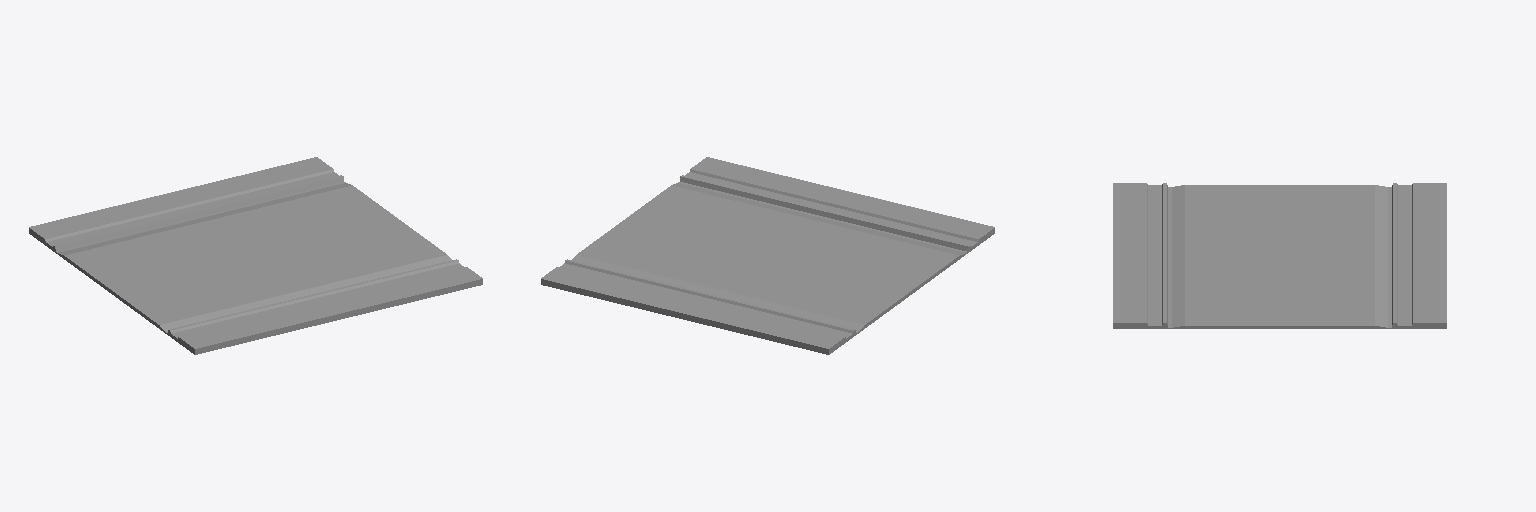
File: Street_RIGHT.obj
3 renders of one model, left to right at view 1: azimuth 30°, elevation 25°; view 2: azimuth 150°, elevation 25°; view 3: azimuth 270°, elevation 25°, orthographic.
Parts seen in each view (by area): view 1: Road-2-Lane-Straight_xyz_uv_100x100; view 2: Road-2-Lane-Straight_xyz_uv_100x100; view 3: Road-2-Lane-Straight_xyz_uv_100x100.
Part boxes in pixels (bbox=[...]): Road-2-Lane-Straight_xyz_uv_100x100: bbox=[29, 157, 482, 354]; Road-2-Lane-Straight_xyz_uv_100x100: bbox=[541, 157, 994, 354]; Road-2-Lane-Straight_xyz_uv_100x100: bbox=[1113, 183, 1446, 328].
Size of the model in its own units: 100 by 2 by 100.